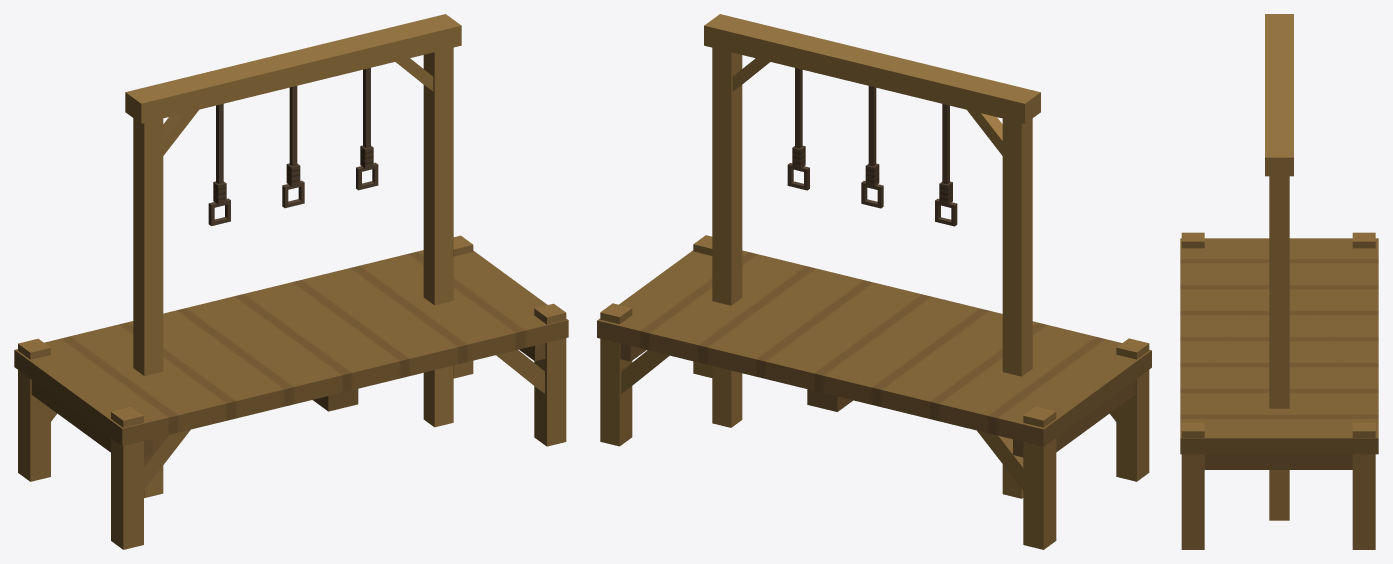
File: Gallows.gltf
The picture shows the model from 3 angles, left to right: view 1: azimuth 30°, elevation 25°; view 2: azimuth 150°, elevation 25°; view 3: azimuth 270°, elevation 25°; orthographic projection. The views are drawn at different scales.
Parts seen in each view (by area): view 1: SF_Prop_Gallows_01; view 2: SF_Prop_Gallows_01; view 3: SF_Prop_Gallows_01.
Boxes of the visible parts, x1,y1,x2,y2 form: SF_Prop_Gallows_01: [14, 14, 568, 549]; SF_Prop_Gallows_01: [597, 14, 1151, 549]; SF_Prop_Gallows_01: [1180, 14, 1378, 549].
Bounding box in the file's own units: 0.1054 × 0.0898 × 0.0442.
1 material, 1 textured.
